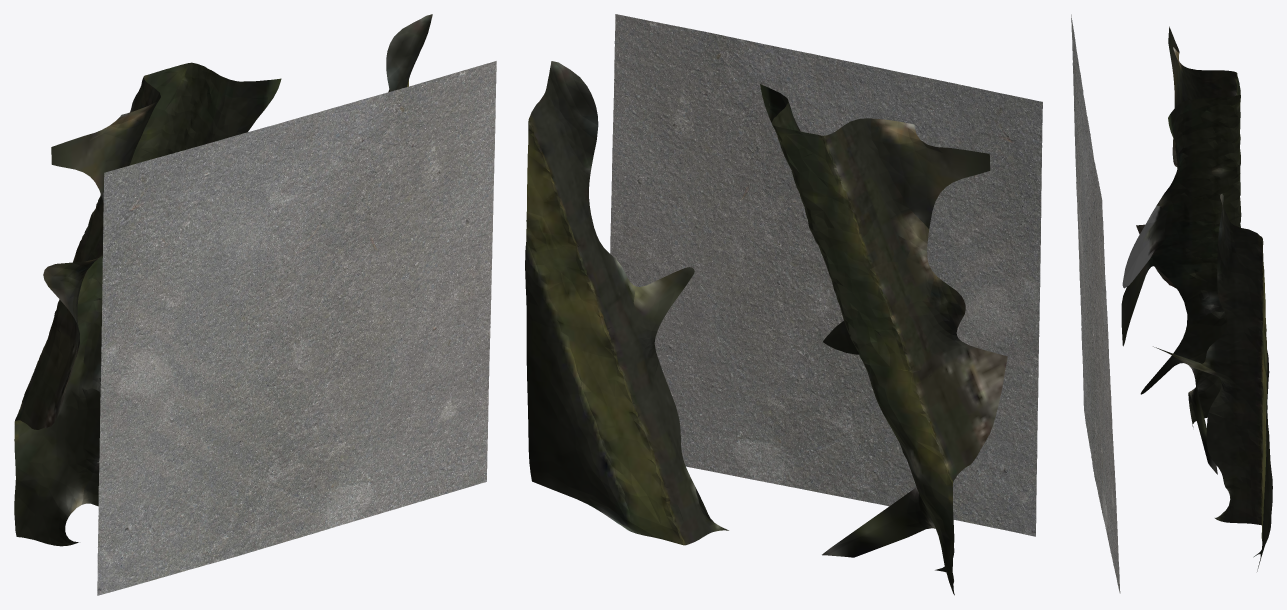
The model's file is Tile_+008_+013.obj.
3 views of the same model, side by side, from view 1: azimuth 30°, elevation 25°; view 2: azimuth 150°, elevation 25°; view 3: azimuth 270°, elevation 25° (orthographic). The views are drawn at different scales.
Size of the model in its own units: 3.03 by 3.03 by 1.4.
1 material, 1 textured.
